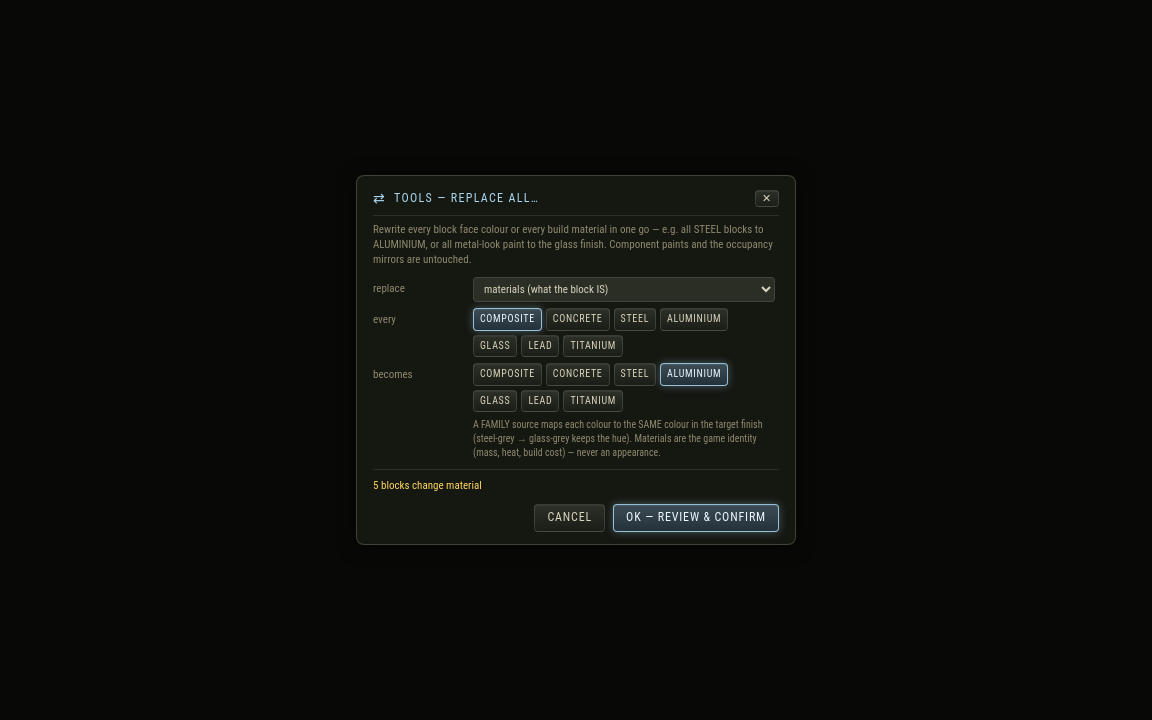
Test: ToolDialog — fields are GENERATED from the ToolDef › replace-all: long option lists render as native selects, showIf gates the pair
This screenshot has width=1152, height=720.
Expected: the element with test id "tool-field-destMaterial" is shown, [473, 363, 728, 412]
Select "face colours (appearance)" in the dropdown with test id "tool-select-target" at (624, 290), box [473, 277, 775, 302]
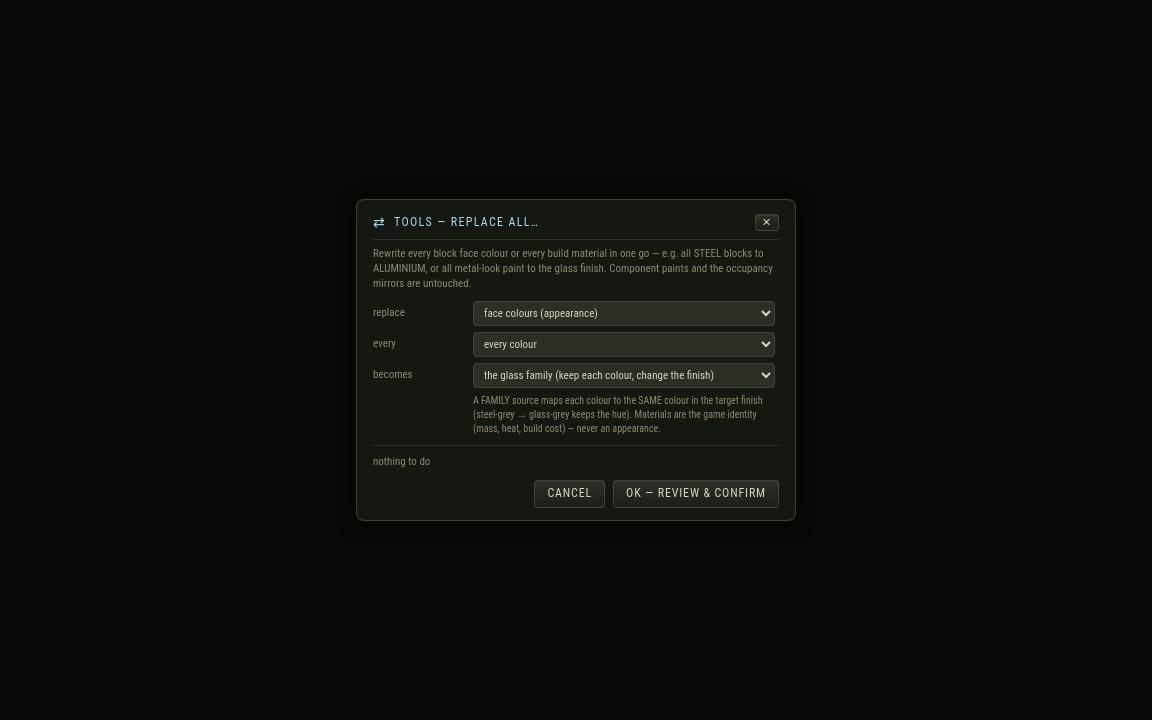
Now the element with test id "tool-field-destColor" is shown, box [473, 363, 775, 388]
Now the element with test id "tool-field-destMaterial" is gone
